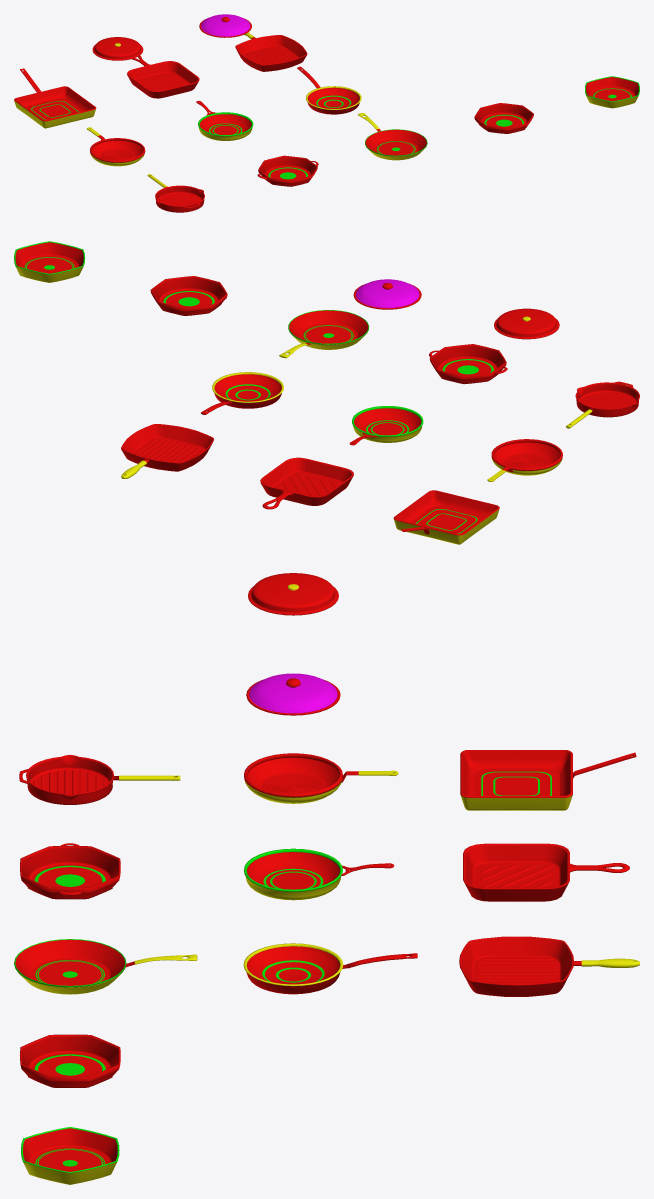
Rendered from pans_grp.fbx.
3 views of the same model, one above another, from view 1: azimuth 30°, elevation 25°; view 2: azimuth 150°, elevation 25°; view 3: azimuth 270°, elevation 25° (orthographic). The views are drawn at different scales.
Parts seen in each view (by area): view 1: polySurface149, polySurface134, pCube306, pan_lid_2, pCylinder123, pot_lid_1, polySurface128, polySurface165, polySurface115, polySurface132, polySurface121, polySurface124 (+12 smaller); view 2: polySurface149, polySurface134, pCube306, pan_lid_2, pot_lid_1, pCylinder123, polySurface165, polySurface128, polySurface115, polySurface132, polySurface121, polySurface124 (+12 smaller); view 3: polySurface149, polySurface134, pCube306, pan_lid_2, pot_lid_1, pCylinder123, polySurface128, polySurface165, polySurface115, polySurface132, polySurface121, polySurface124 (+12 smaller).
Boxes of the visible parts, x1,y1,x2,y2 form: polySurface149: (14, 86, 96, 128); polySurface134: (127, 61, 199, 98); pCube306: (235, 35, 307, 71); pan_lid_2: (199, 14, 251, 37); pCylinder123: (585, 76, 639, 108); pot_lid_1: (92, 37, 143, 60); polySurface128: (365, 129, 427, 160); polySurface165: (474, 103, 533, 133); polySurface115: (258, 155, 317, 186); polySurface132: (307, 87, 359, 108); polySurface121: (199, 114, 251, 134); polySurface124: (92, 140, 142, 160); polySurface149: (393, 490, 499, 544); polySurface134: (260, 457, 353, 505); pCube306: (121, 424, 213, 471); pan_lid_2: (353, 279, 421, 309); pot_lid_1: (494, 308, 559, 339); pCylinder123: (14, 241, 85, 282); polySurface165: (150, 276, 227, 315); polySurface128: (288, 310, 369, 349); polySurface115: (429, 344, 506, 384); polySurface132: (214, 374, 281, 401); polySurface121: (354, 408, 421, 435); polySurface124: (494, 442, 560, 468); polySurface149: (460, 750, 572, 810); polySurface134: (463, 843, 569, 901); pCube306: (459, 936, 573, 996); pan_lid_2: (246, 673, 340, 715); pot_lid_1: (248, 573, 338, 615); pCylinder123: (21, 1127, 119, 1184); polySurface128: (14, 939, 126, 994); polySurface165: (20, 1034, 120, 1087); polySurface115: (20, 846, 120, 899); polySurface132: (246, 946, 339, 984); polySurface121: (247, 852, 339, 889); polySurface124: (247, 757, 339, 793).
Size of the model in its own units: 450 by 101 by 280.
